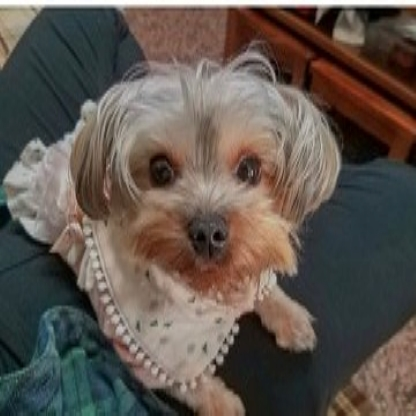yorkshire: (68, 48, 342, 295)
